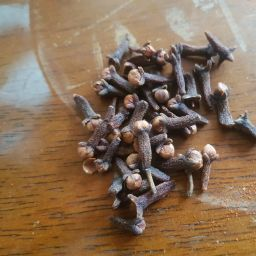Cloves: (67, 33, 256, 239), (71, 29, 255, 170)
